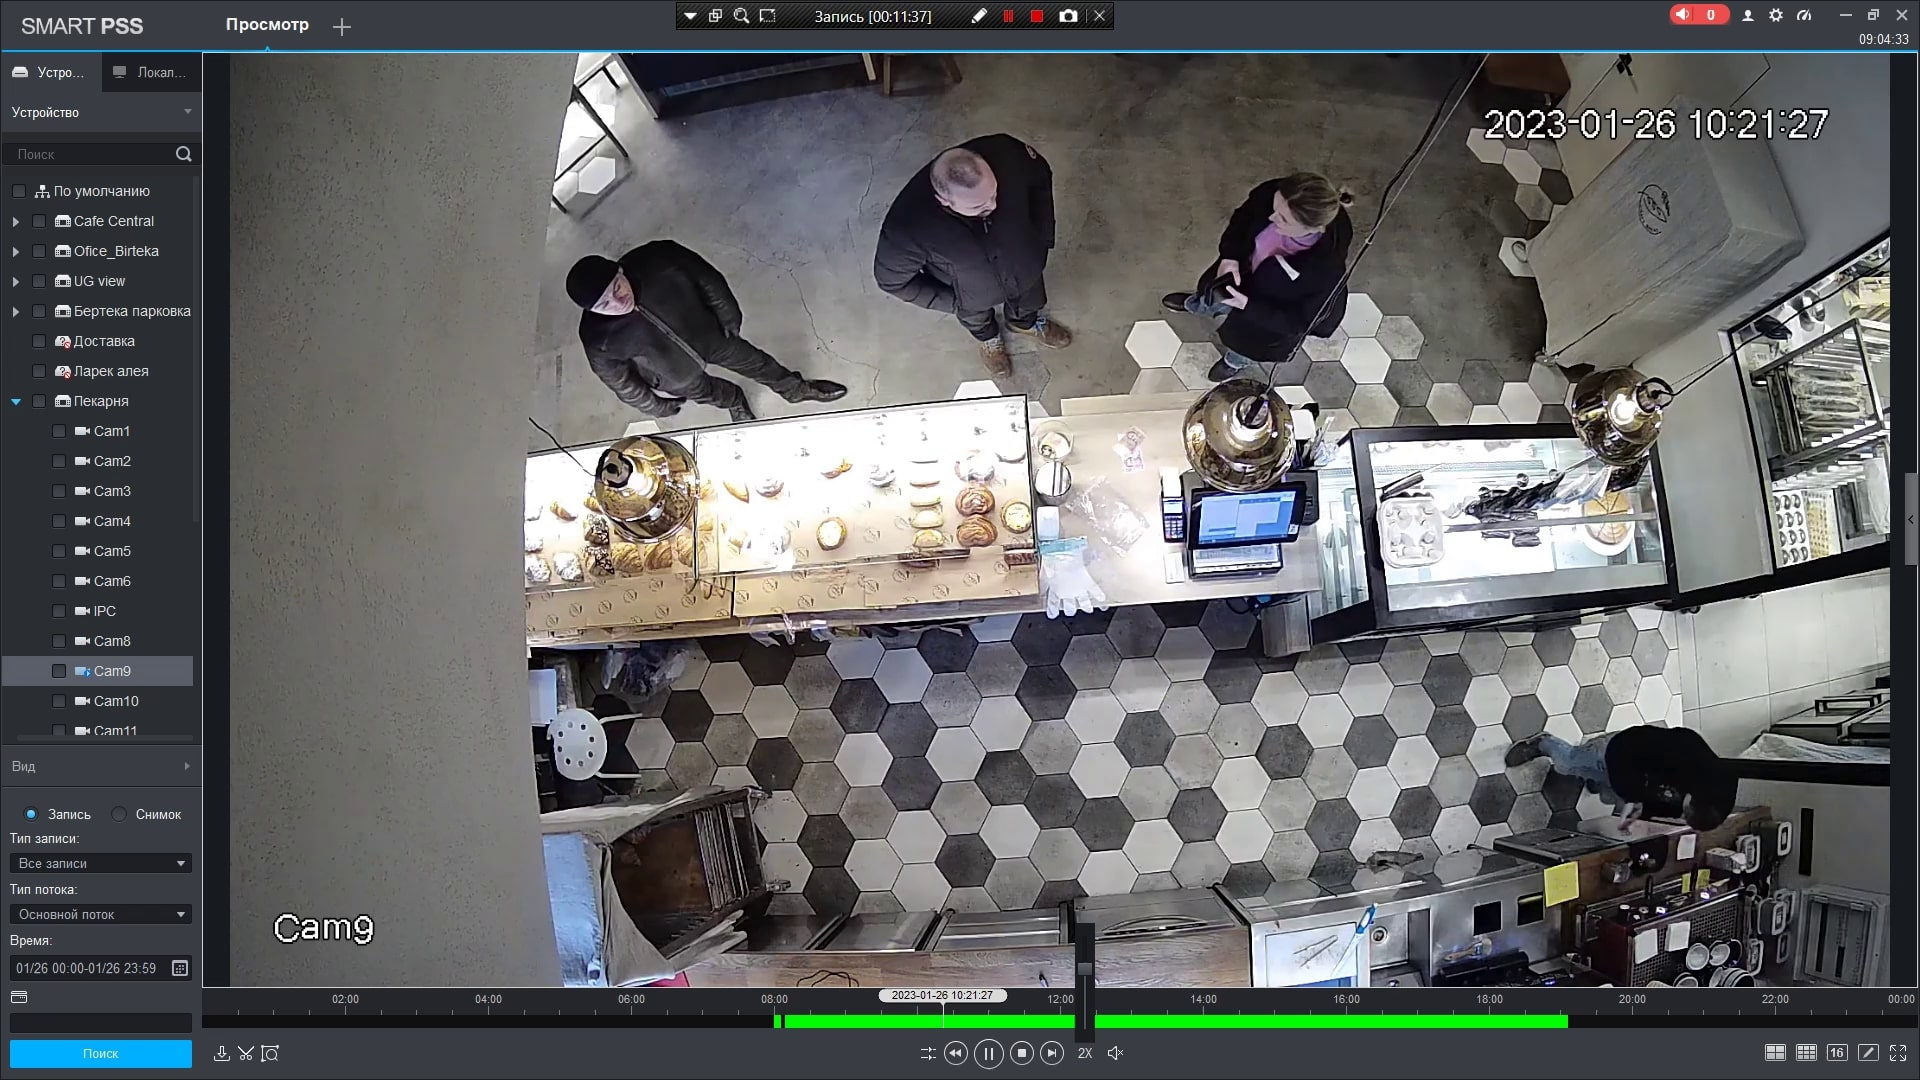barcounter: (534, 446, 1689, 652)
person: (855, 136, 1102, 377), (1162, 136, 1407, 377), (562, 230, 823, 414), (1493, 691, 1759, 850)
